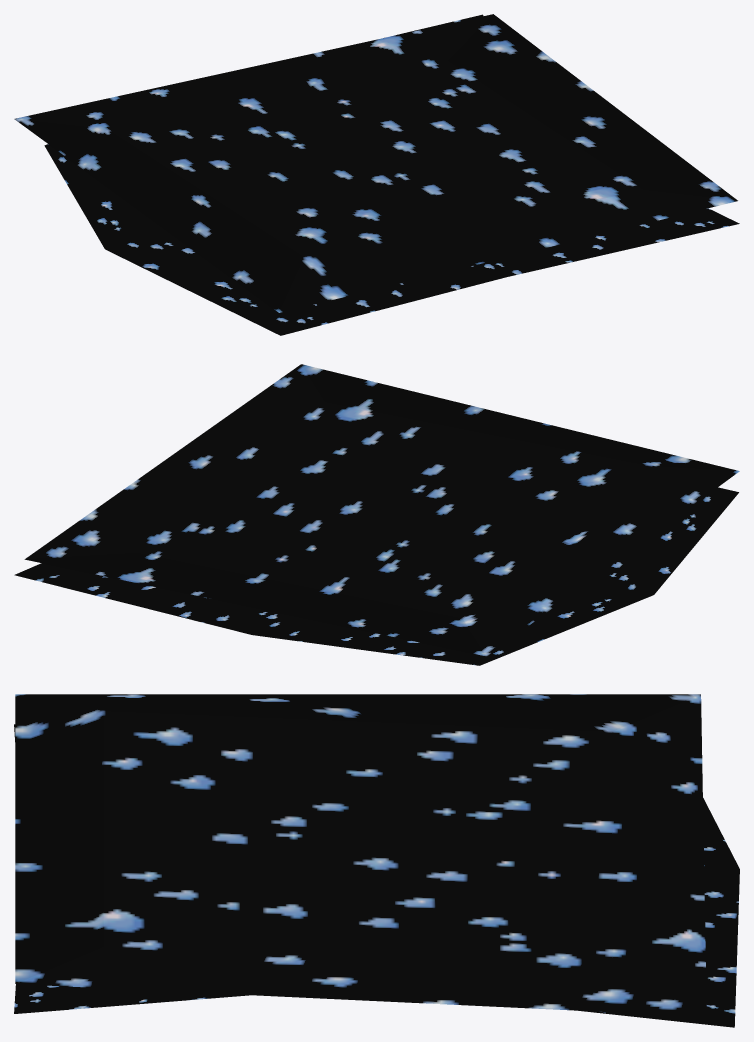
The picture shows the model from 3 angles, top to bottom: view 1: azimuth 30°, elevation 25°; view 2: azimuth 150°, elevation 25°; view 3: azimuth 270°, elevation 25°; orthographic projection. The views are drawn at different scales.
Parts seen in each view (by area): view 1: 1030; view 2: 1030; view 3: 1030.
Part boxes in pixels (<box>): 1030: <box>14,14,739,335</box>; 1030: <box>14,364,739,665</box>; 1030: <box>14,694,739,1027</box>.
Size of the model in its own units: 1.71 by 0.2014 by 1.59.
Materials: 1 (1 with a texture image).
